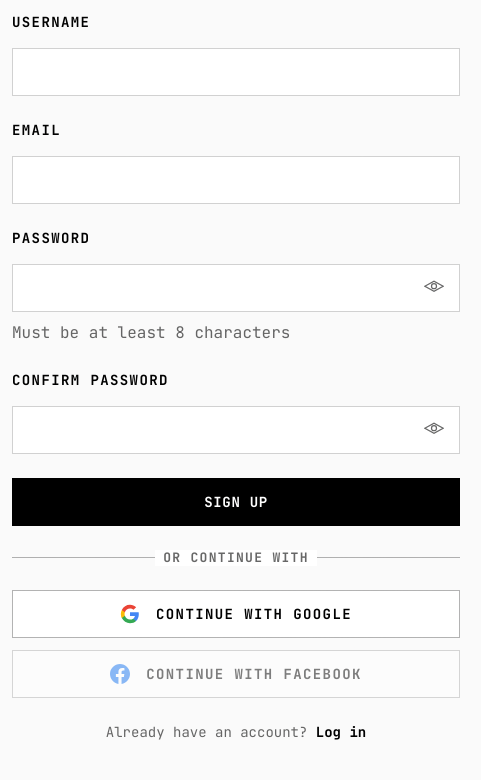
Test: SignupForm › Client-side validation › validates password minimum length (8 characters)
Type "testuser" into the field labelled "Username" at (236, 72), box [12,48,460,96]
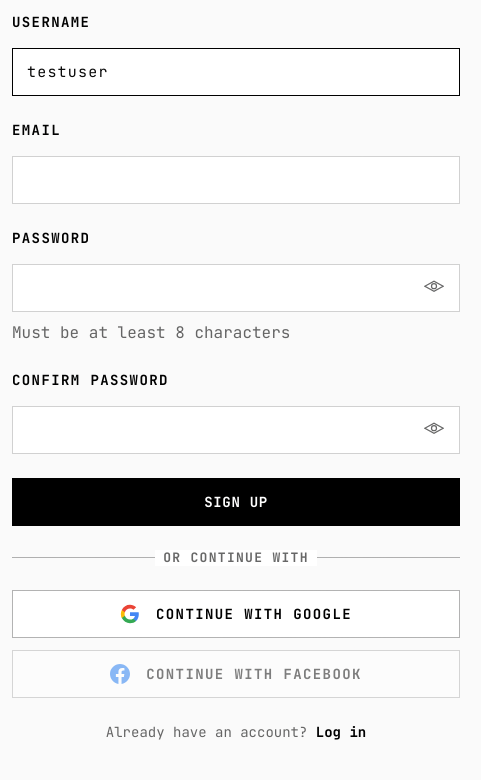
Type "test@example.com" into the field labelled "Email" at (236, 180), box [12,156,460,204]
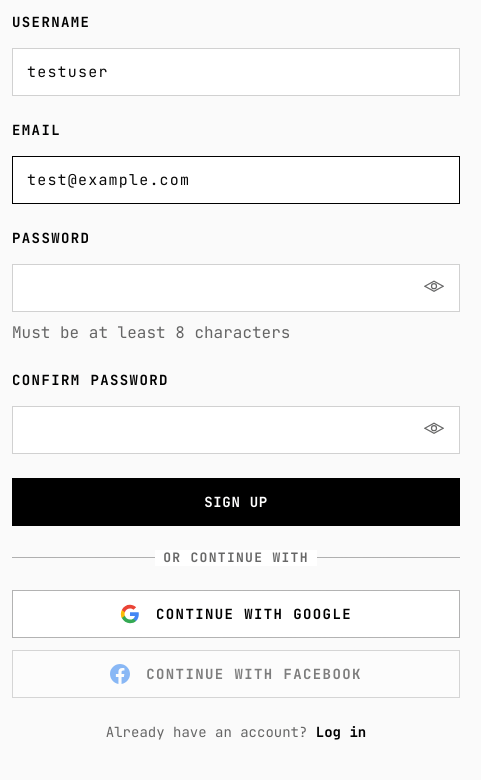
Type "pass123" into the password field labelled "Password" at (236, 288), box [12,264,460,312]
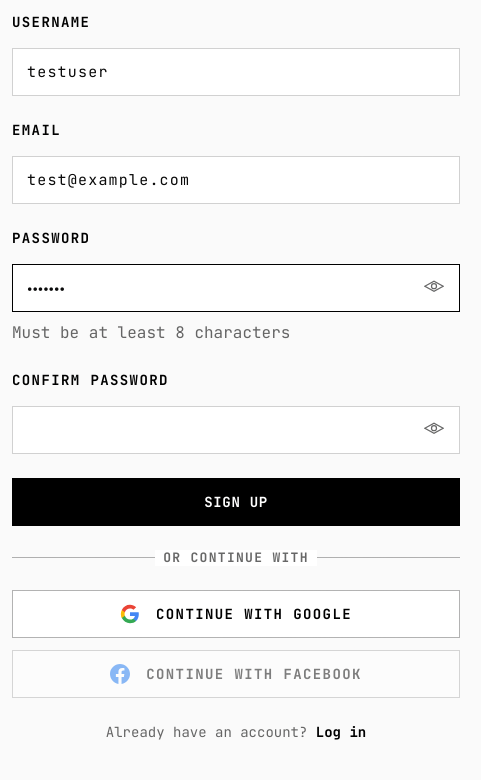
Type "pass123" into the password field labelled "Confirm Password" at (236, 430), box [12,406,460,454]
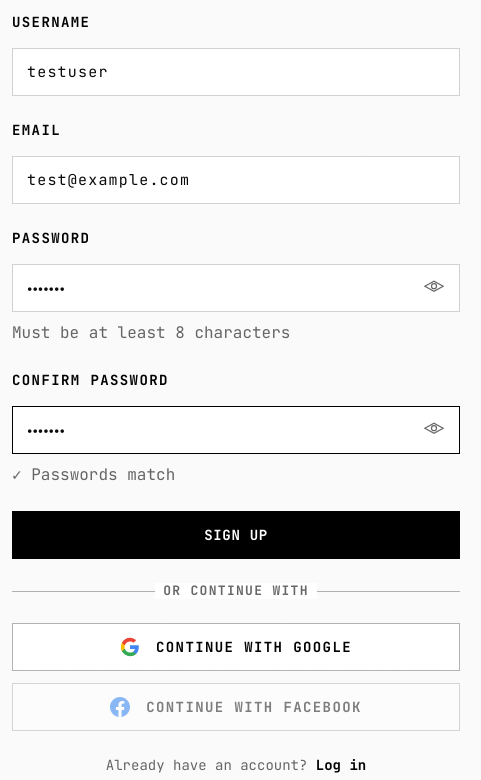
Click the button "Sign Up" at (236, 535), box [12,511,460,559]
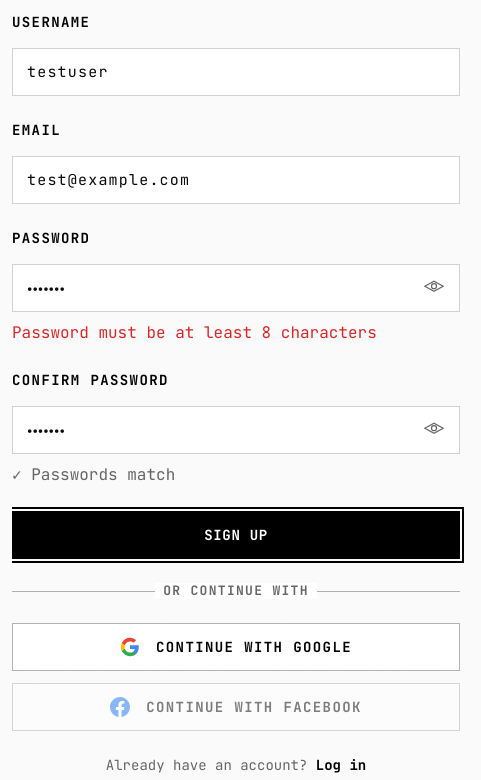
Check: the text "Password must be at least 8 characters" is shown, box [12,322,377,343]
